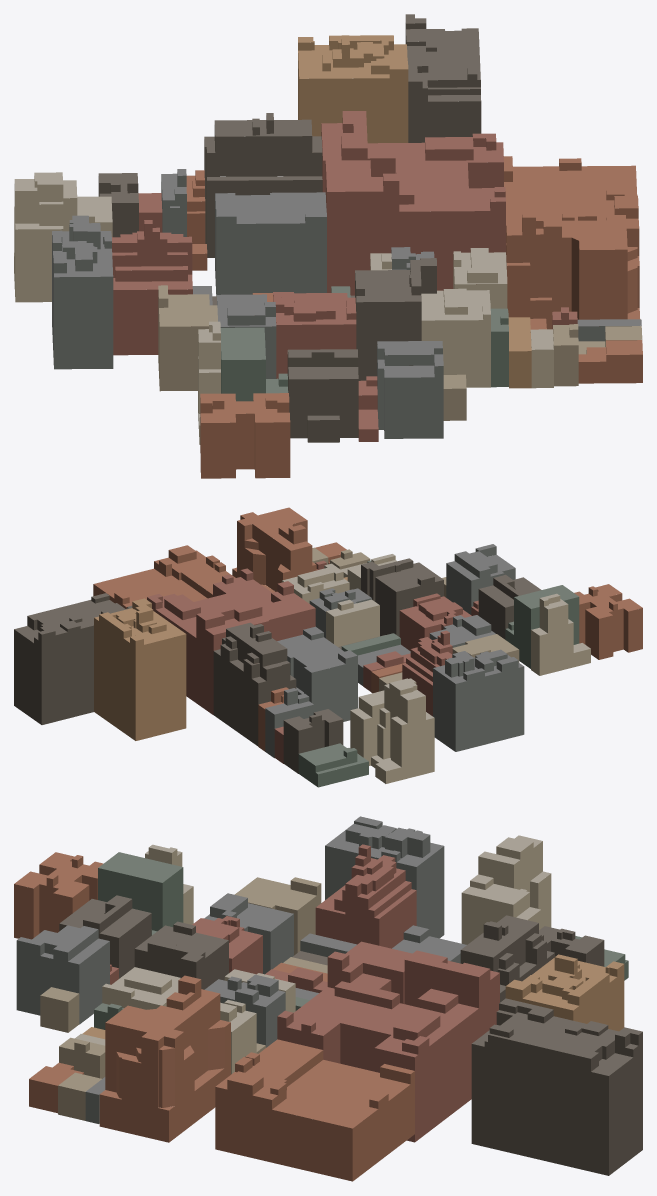
File: tile-0_-6.glb
The picture shows the model from 3 angles, top to bottom: view 1: azimuth 30°, elevation 25°; view 2: azimuth 150°, elevation 25°; view 3: azimuth 270°, elevation 25°; orthographic projection. The views are drawn at different scales.
Parts seen in each view (by area): view 1: wall, roof; view 2: wall, roof; view 3: wall, roof.
Boxes of the visible parts, bbox=[...] form: wall: bbox=[14, 23, 642, 478]; roof: bbox=[14, 14, 642, 429]; wall: bbox=[14, 515, 642, 787]; roof: bbox=[14, 507, 642, 774]; wall: bbox=[14, 821, 642, 1181]; roof: bbox=[14, 816, 642, 1128].
Size of the model in its own units: 232 by 57.6 by 222.
